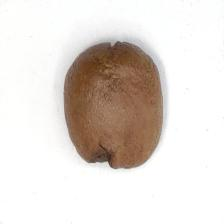NG: (81, 138, 123, 168)
